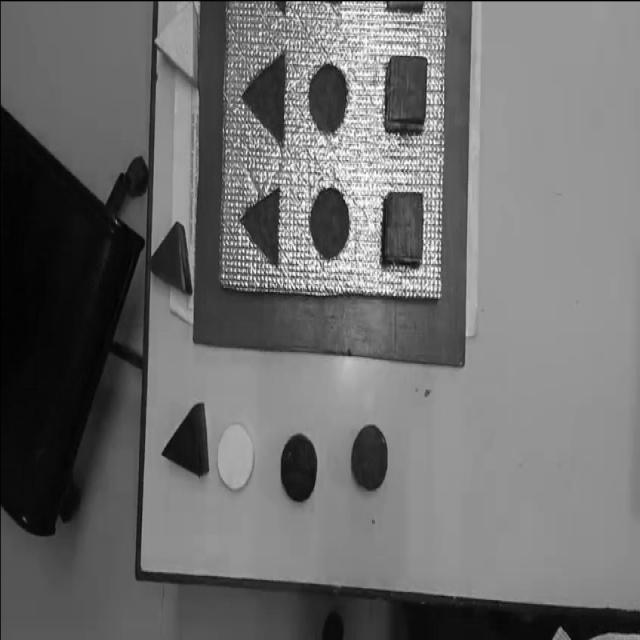bcircle: (280, 433, 318, 504)
bcube: (382, 191, 424, 267)
btriangle: (162, 403, 210, 479)
mtcircle: (308, 62, 349, 136), (309, 186, 350, 258)
mttriangle: (241, 51, 288, 148), (239, 187, 283, 265)
rcircle: (351, 424, 388, 492)
rcube: (386, 55, 428, 136)
rtriangle: (150, 220, 193, 296)
wb: (212, 2, 450, 314)
ycircle: (216, 421, 255, 492)
ytriangle: (153, 3, 200, 89)
